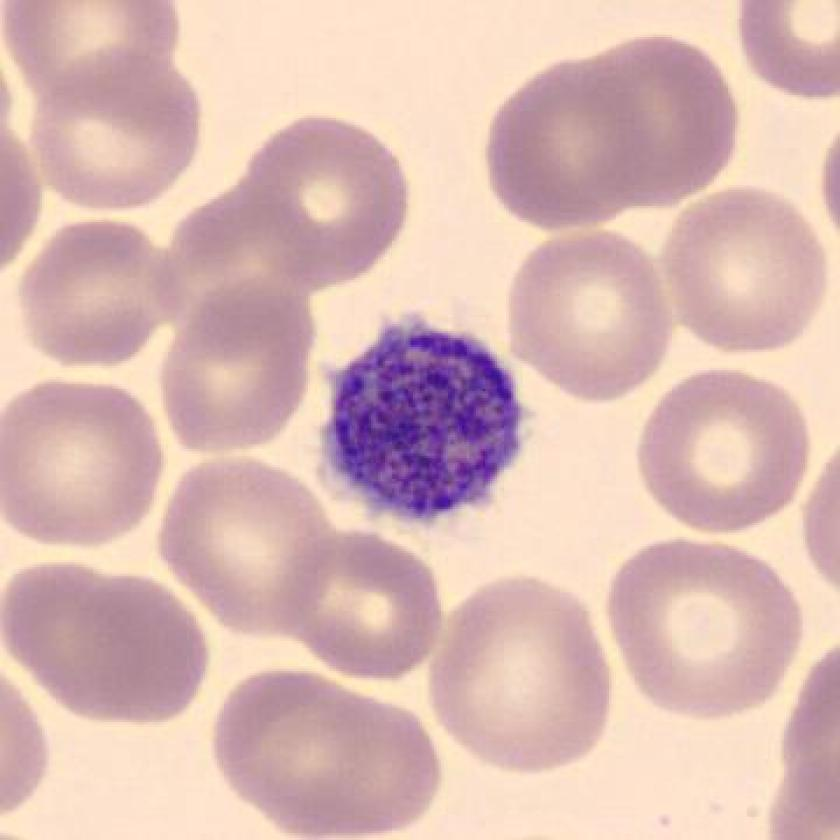platelets: (318, 307, 538, 543)
